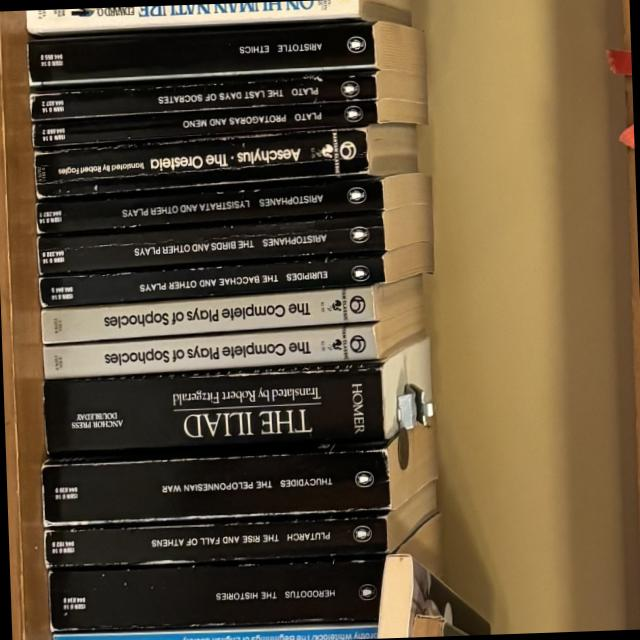book: (41, 337, 432, 453), (39, 424, 439, 532), (41, 481, 439, 574), (32, 122, 417, 198), (36, 202, 434, 275), (41, 306, 424, 381), (37, 241, 434, 313), (38, 274, 424, 345), (26, 20, 425, 85), (35, 171, 432, 235), (48, 555, 385, 629), (30, 95, 427, 149), (29, 67, 425, 121), (25, 0, 410, 36), (53, 622, 376, 640)
